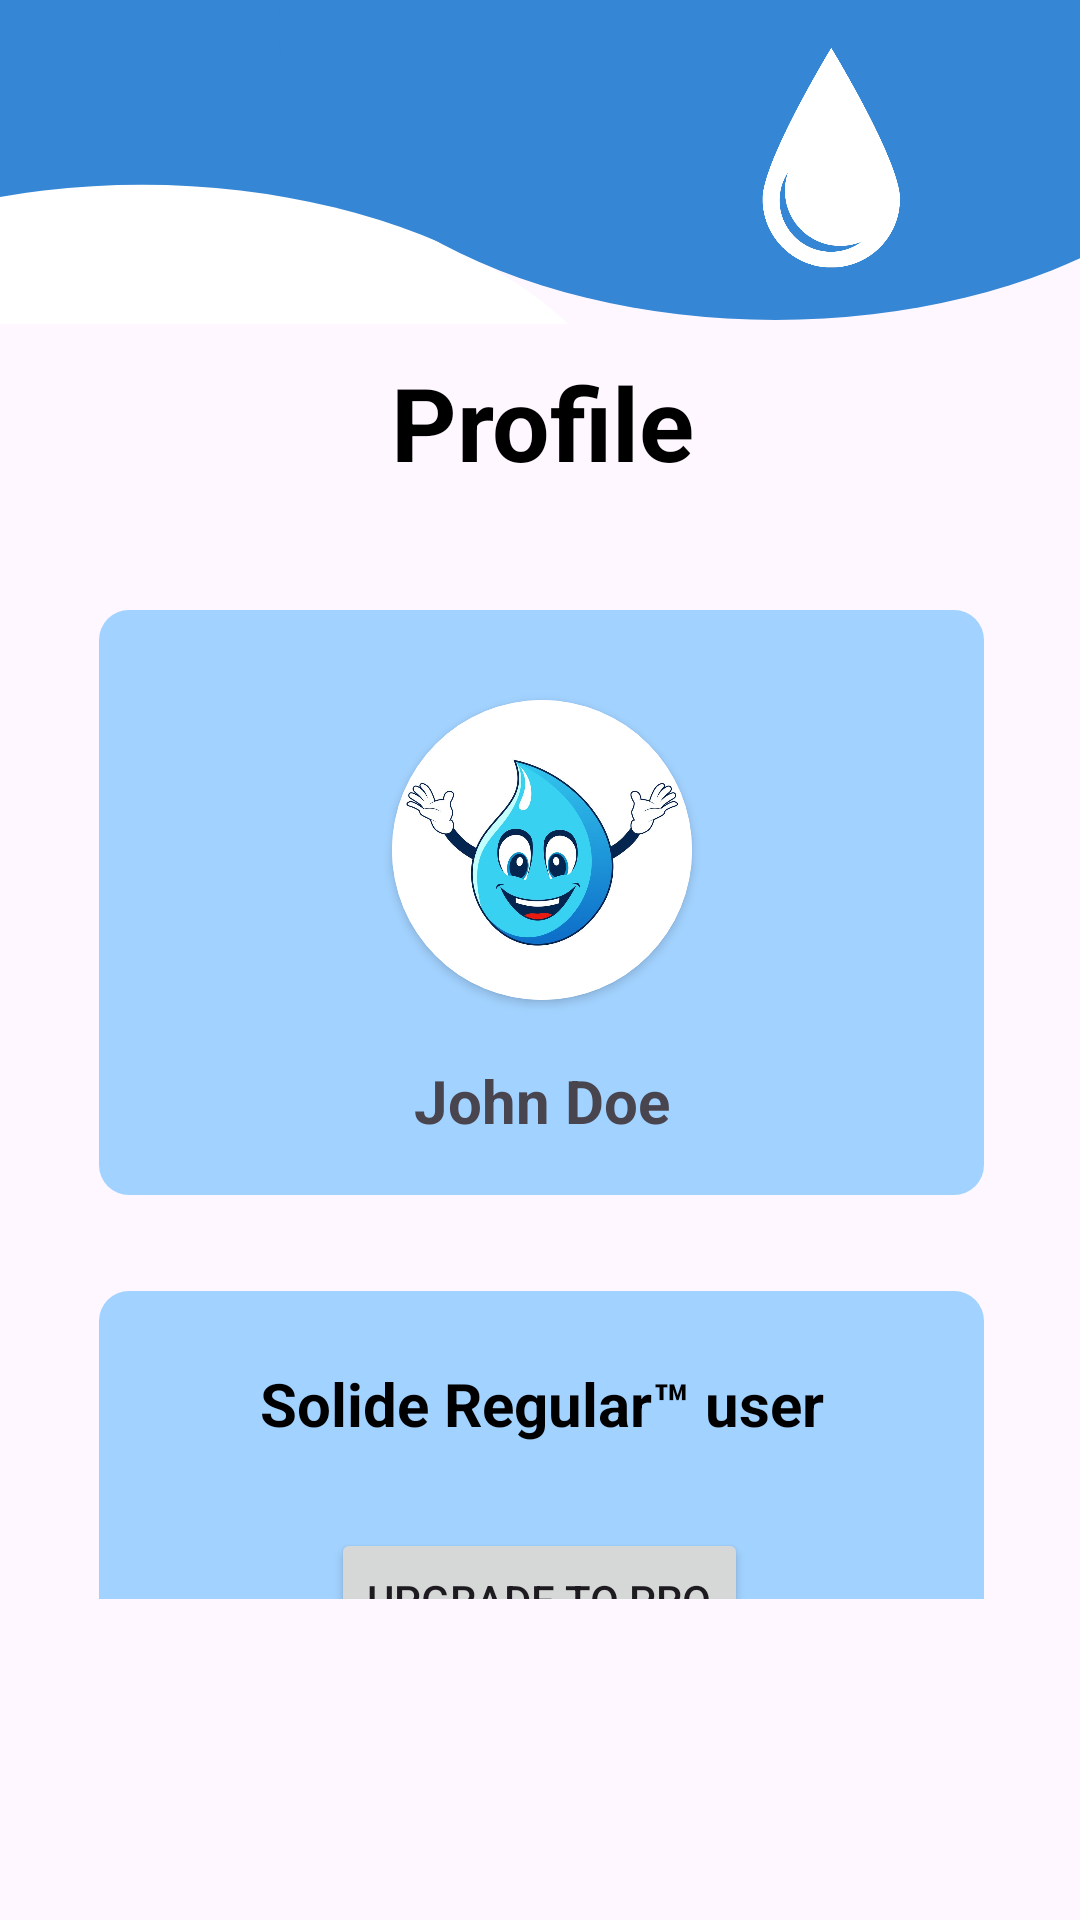

Point at icon controls on the screen. Image size 1080*1920, points as [x,y].
profile: [542,850]
